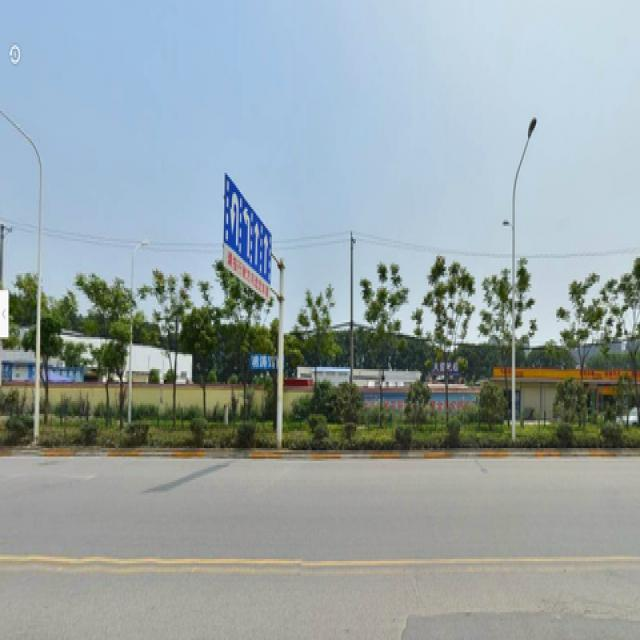koel: (152, 275, 188, 429), (555, 271, 592, 399), (425, 262, 460, 388), (371, 273, 404, 384), (75, 268, 108, 378), (486, 273, 511, 390), (299, 301, 328, 399), (608, 273, 631, 373)
